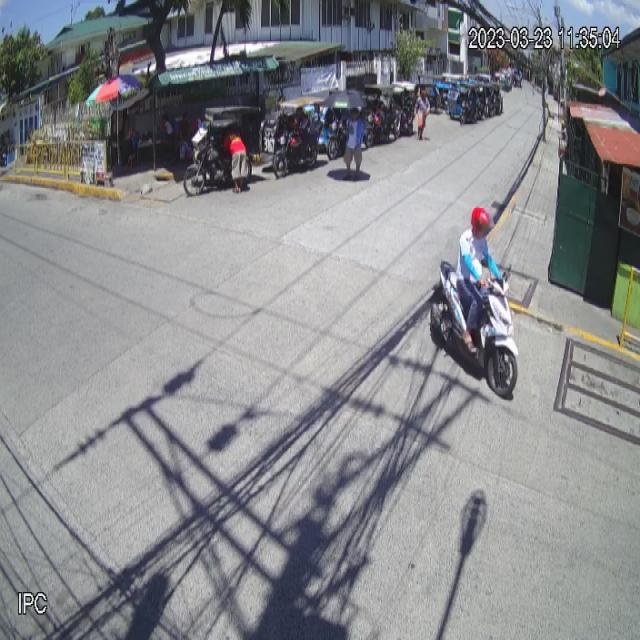Motorcycle: (428, 260, 520, 398)
